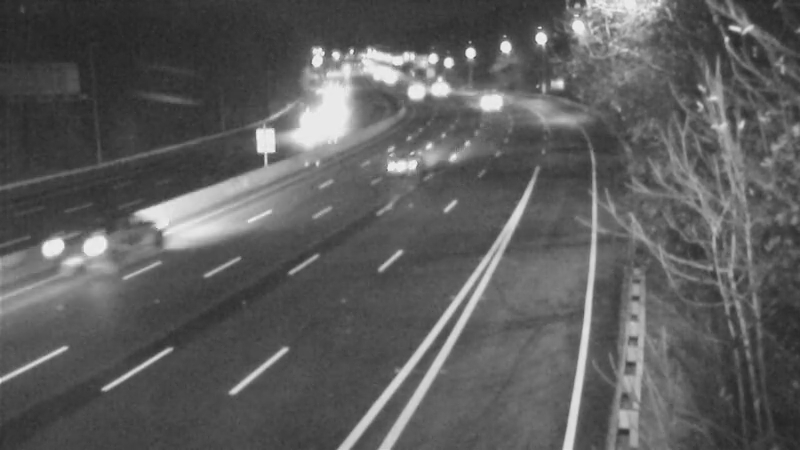vehicle: (367, 119, 447, 199), (50, 204, 130, 284), (384, 65, 434, 115), (415, 63, 465, 113), (459, 76, 509, 126), (284, 103, 334, 153)
